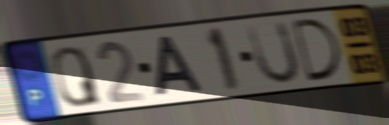1: (204, 25, 243, 95)
2: (95, 38, 149, 106)
A: (154, 33, 206, 99)
D: (288, 16, 344, 84)
Q: (49, 44, 104, 109)
U: (244, 19, 302, 87)
